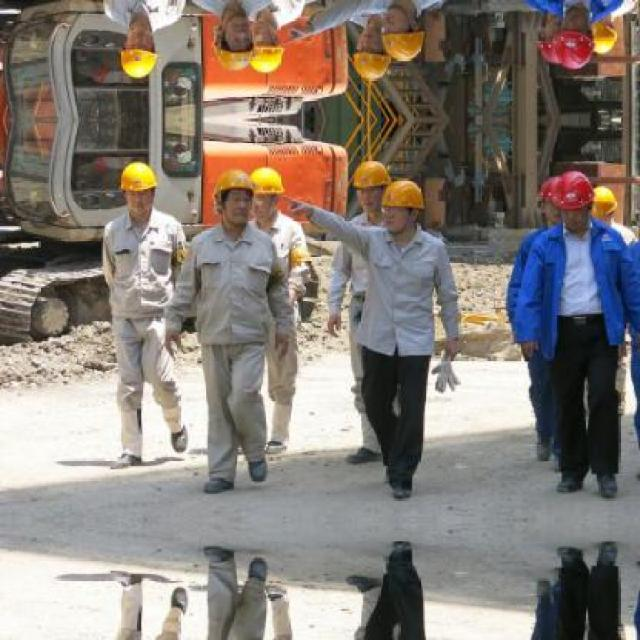helmet: (380, 175, 426, 231), (380, 6, 426, 62), (116, 22, 158, 80), (215, 165, 253, 229), (215, 8, 253, 72), (551, 166, 591, 226), (551, 12, 591, 72), (116, 158, 158, 215), (349, 156, 386, 210), (349, 27, 386, 81), (246, 21, 283, 74), (246, 163, 283, 215), (536, 172, 562, 225), (536, 12, 562, 65), (587, 179, 616, 224), (587, 13, 616, 58)
